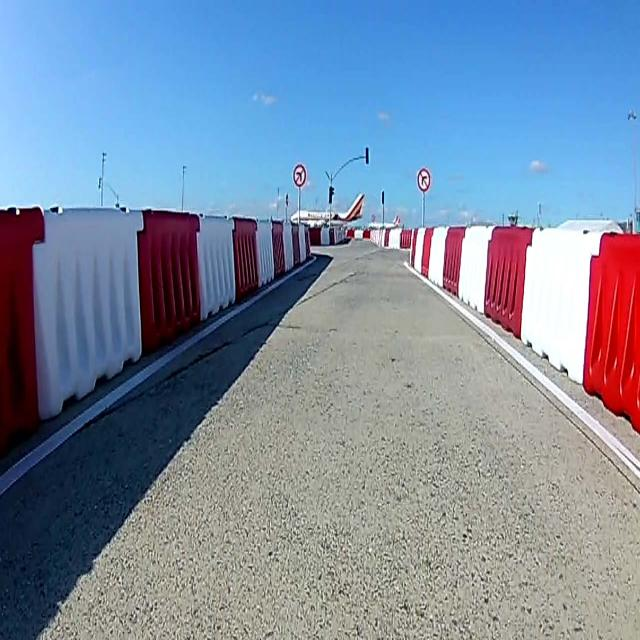sagadonulmez: (417, 165, 431, 192)
soladonulmez: (292, 164, 306, 187)
